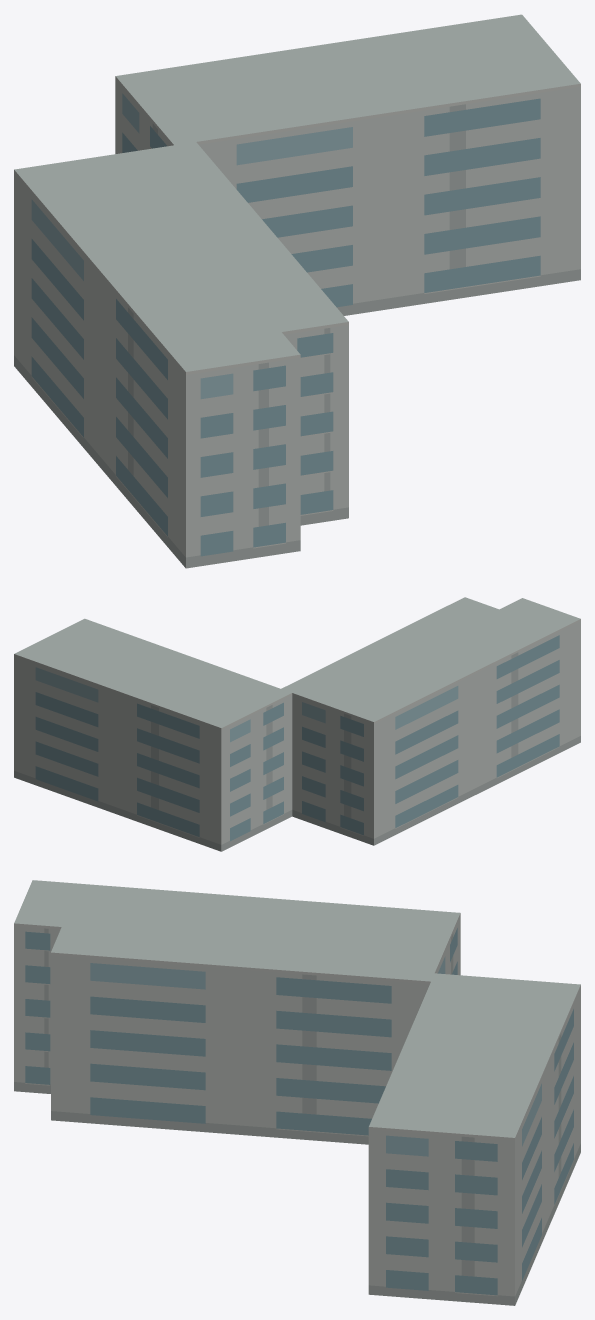
The model's file is residential-1fb81df4-2931-4fcd-8429-9c45020c09f6.glb.
3 views of the same model, one above another, from view 1: azimuth 30°, elevation 25°; view 2: azimuth 150°, elevation 25°; view 3: azimuth 270°, elevation 25° (orthographic). The views are drawn at different scales.
Parts seen in each view (by area): view 1: residential-1fb81df4-2931-4fcd-8429-9c45020c09f6.tmp; view 2: residential-1fb81df4-2931-4fcd-8429-9c45020c09f6.tmp; view 3: residential-1fb81df4-2931-4fcd-8429-9c45020c09f6.tmp.
Part boxes in pixels (box(x1,y1,x2,y2)): residential-1fb81df4-2931-4fcd-8429-9c45020c09f6.tmp: box(14, 14, 580, 568); residential-1fb81df4-2931-4fcd-8429-9c45020c09f6.tmp: box(14, 597, 580, 851); residential-1fb81df4-2931-4fcd-8429-9c45020c09f6.tmp: box(14, 880, 580, 1305).
Bounding box in the file's own units: 50.25 × 15.25 × 46.68.
